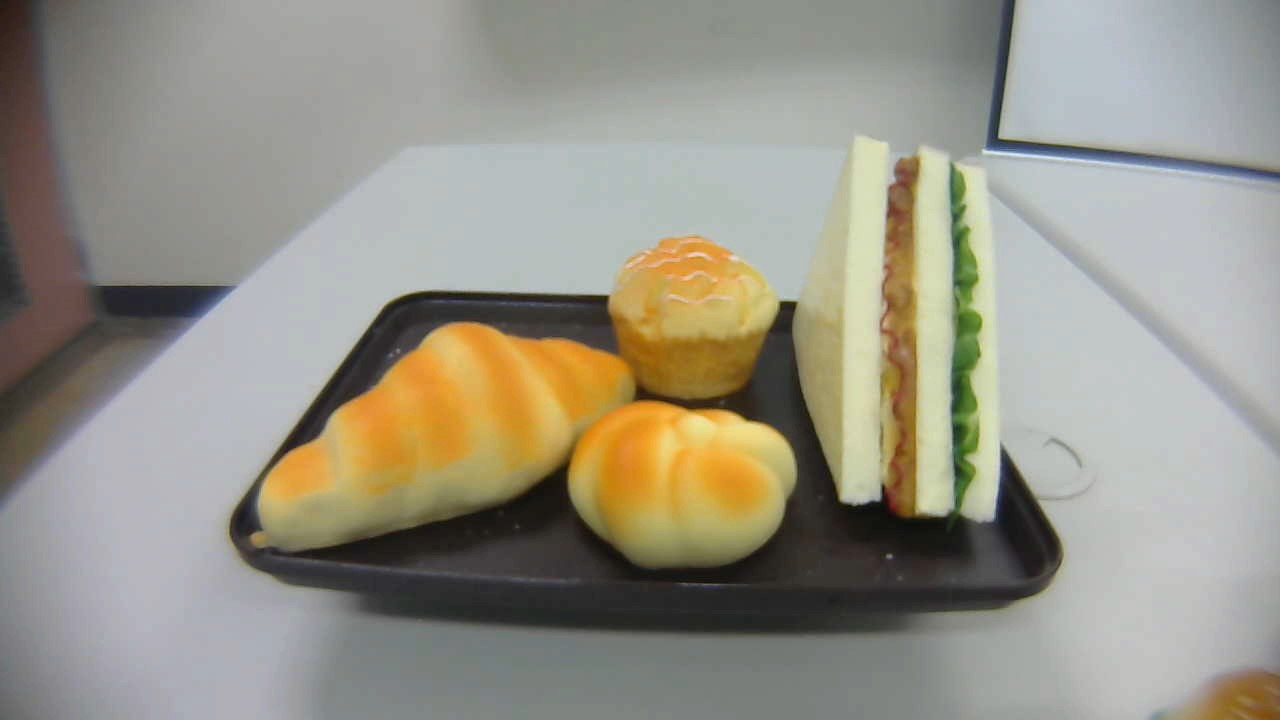croissant: (251, 322, 637, 556)
cupcake: (607, 237, 781, 398)
sandwich: (790, 135, 1005, 524)
twist bread: (568, 402, 798, 569)
